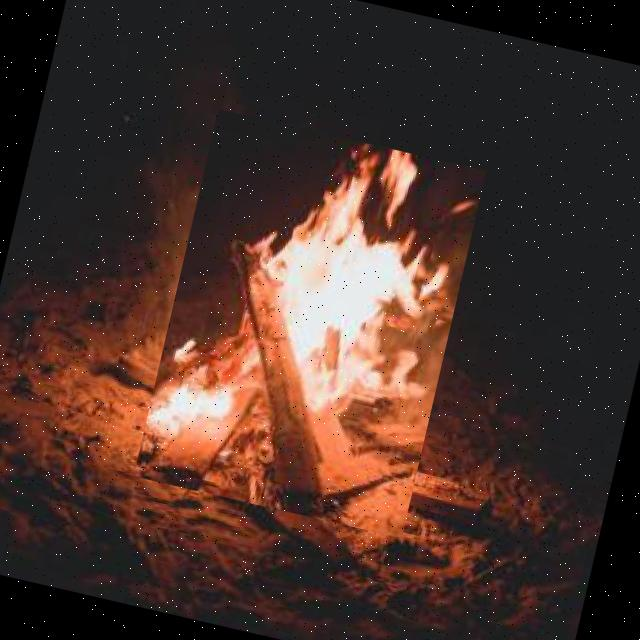fire: (133, 108, 486, 538)
